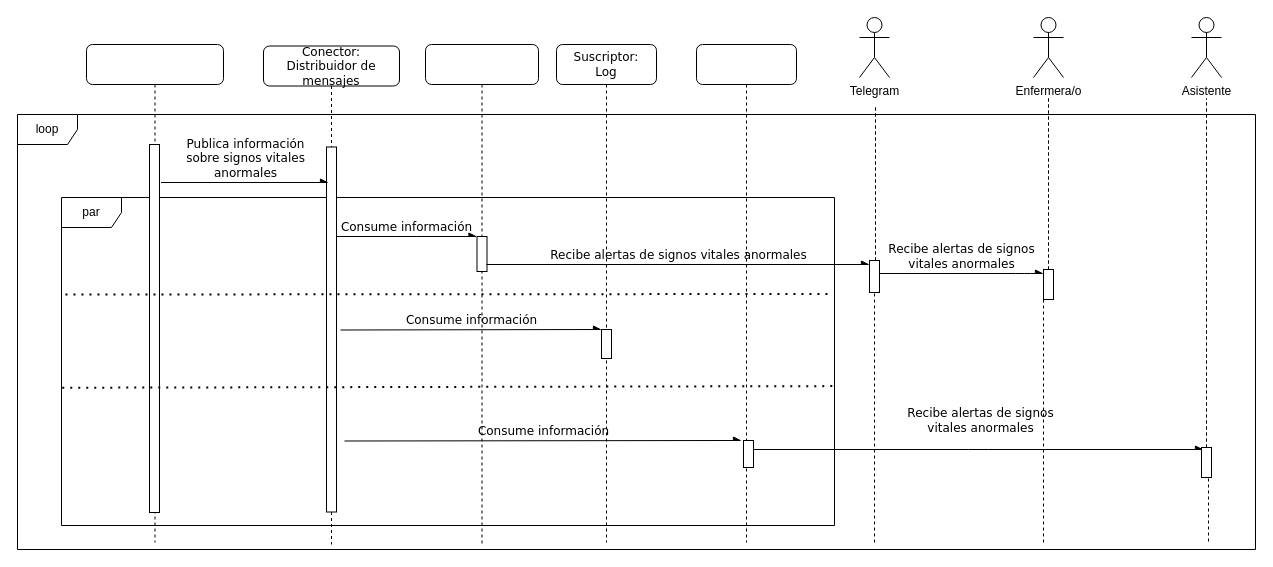
Image size: 1273x567. Some labels were removed from this diagram. The shapes that lost their labels are listed below. From the top down, each one's box as (x1, y1, x2, y2) in pixels, then its label:
(86, 44, 224, 542): Publicador: Xiaomi my band
(424, 44, 538, 546): Suscriptor: Notificador de alertas
(696, 44, 796, 542): Suscriptor: Monitor
